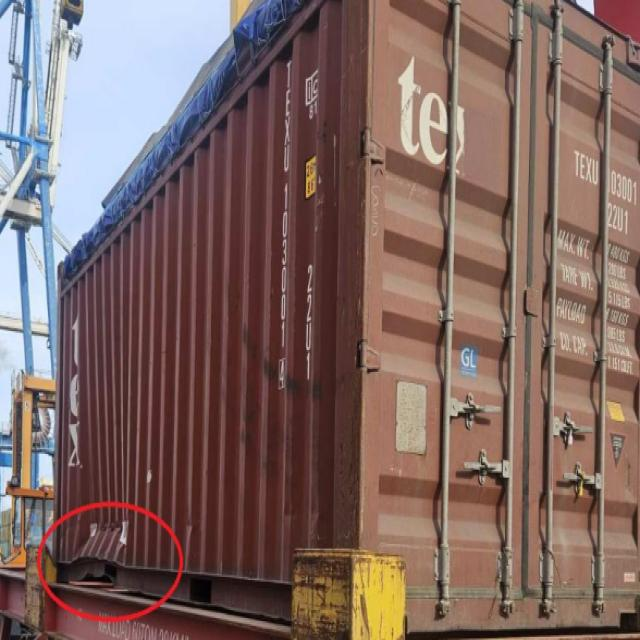dent: (67, 514, 141, 589)
